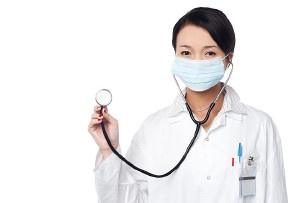Mask: (173, 42, 224, 93)
